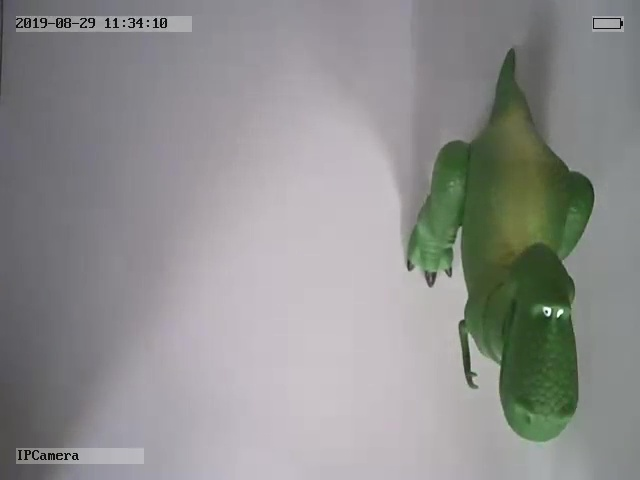rex: (403, 45, 593, 441)
